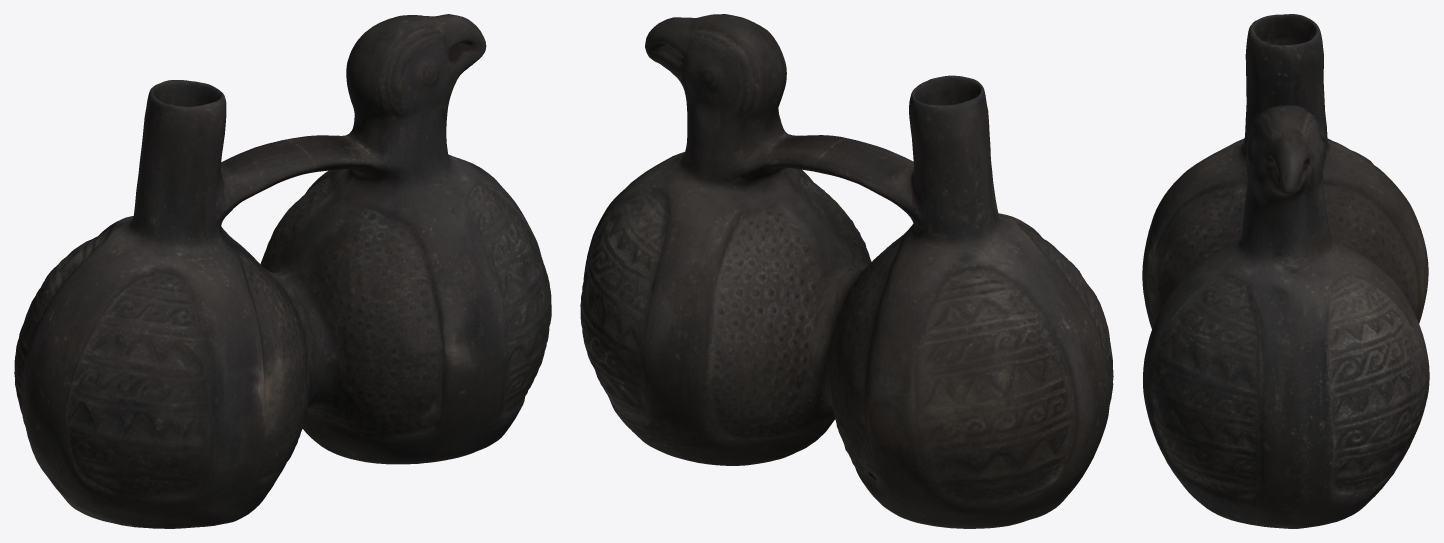
Rendered from zoomorphic_vessel_chimu_culture.glb.
3 renders of one model, left to right at view 1: azimuth 30°, elevation 25°; view 2: azimuth 150°, elevation 25°; view 3: azimuth 270°, elevation 25°, orthographic. The views are drawn at different scales.
Visible parts, largest first — view 1: Object_2; view 2: Object_2; view 3: Object_2.
Part boxes in pixels (<box>): Object_2: <box>14,14,551,528</box>; Object_2: <box>580,14,1113,528</box>; Object_2: <box>1142,14,1429,528</box>.
Size of the model in its own units: 147 by 118 by 78.01.
Materials: 1 (1 with a texture image).
